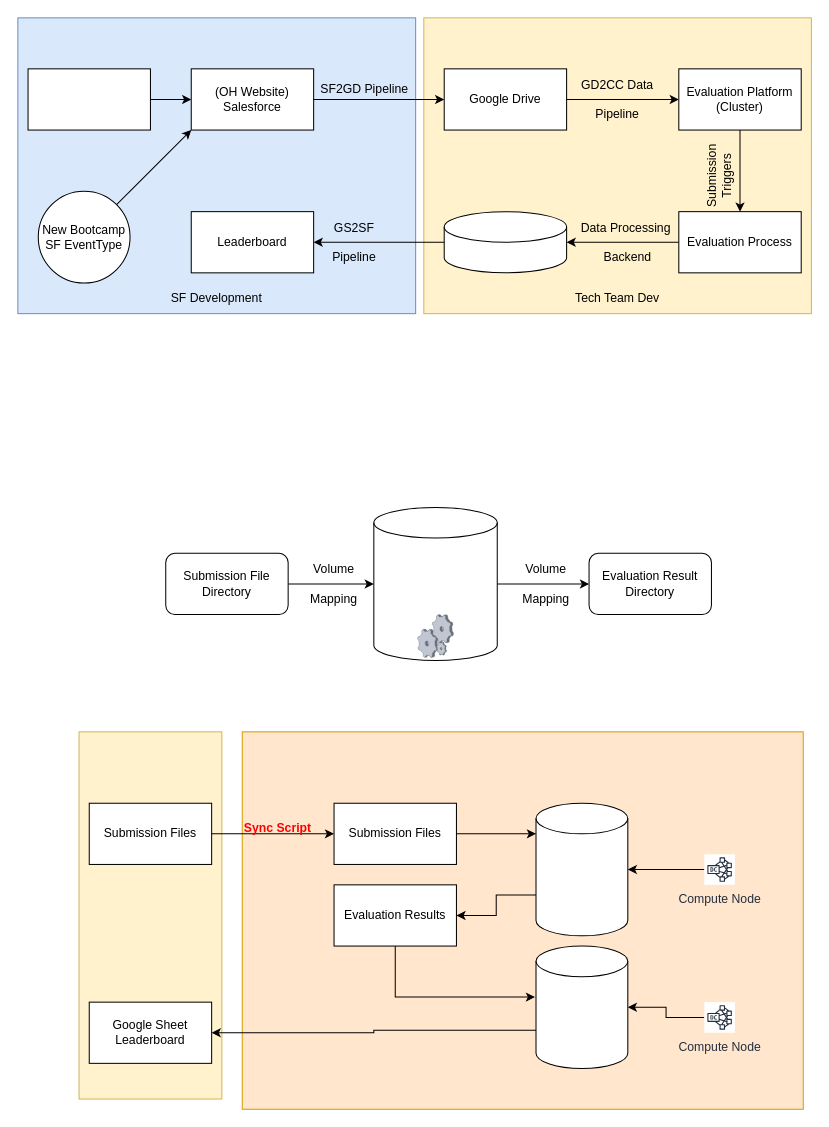
This 829x1127 diagram has some shape labels left out. The shapes that lost their labels are listed below. From the top down, each one's box as (x1, y1, x2, y2) in pixels, then its label:
(27, 68, 150, 130): User Submission
(443, 211, 567, 273): Event Leaderboard Google Sheet
(373, 506, 497, 660): Evaluation Process (Docker)
(535, 802, 628, 936): Challenge Evaluation Container
(78, 731, 222, 1099): Google Workspace
(241, 731, 803, 1109): Host Cluster.
(535, 945, 628, 1068): Backend Container
